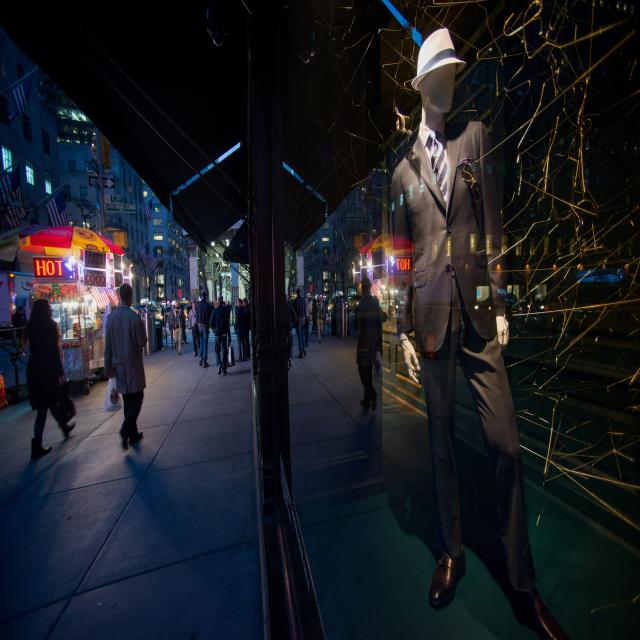body: (282, 14, 559, 640), (23, 296, 78, 466), (101, 280, 149, 453), (209, 294, 236, 376), (26, 434, 76, 468), (195, 290, 212, 369), (117, 440, 150, 470), (234, 298, 247, 362), (200, 359, 246, 376), (171, 300, 185, 355), (188, 298, 201, 357), (242, 298, 252, 360), (11, 306, 29, 340), (164, 304, 177, 349), (179, 304, 189, 345), (207, 298, 215, 331), (226, 300, 232, 326), (222, 301, 230, 319), (187, 302, 193, 320), (225, 299, 232, 312), (235, 304, 239, 317), (149, 301, 154, 310), (160, 304, 164, 310)
